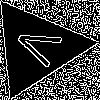V: (11, 22, 73, 72)
